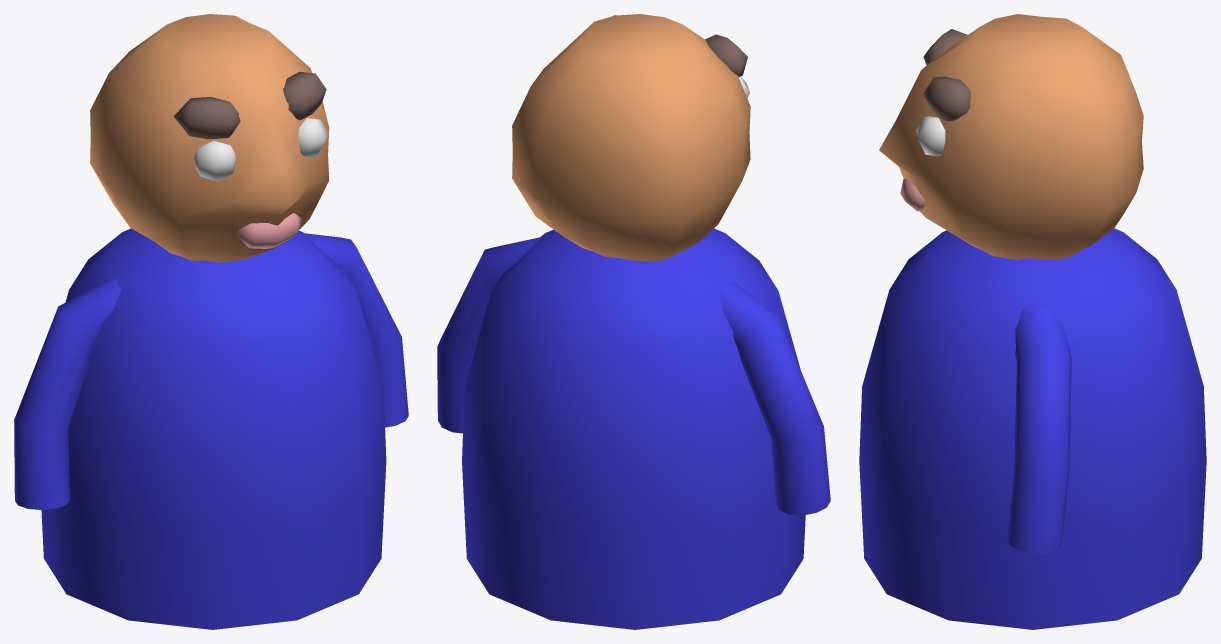
Rendered from player_model.fbx.
3 renders of one model, left to right at view 1: azimuth 30°, elevation 25°; view 2: azimuth 150°, elevation 25°; view 3: azimuth 270°, elevation 25°, orthographic.
Parts seen in each view (by area): view 1: Player; view 2: Player; view 3: Player.
Part boxes in pixels (left/top/right/bottom): Player: left=14, top=14, right=408, bottom=629; Player: left=437, top=14, right=830, bottom=629; Player: left=859, top=14, right=1206, bottom=629.
Size of the model in its own units: 742 by 957 by 578.
